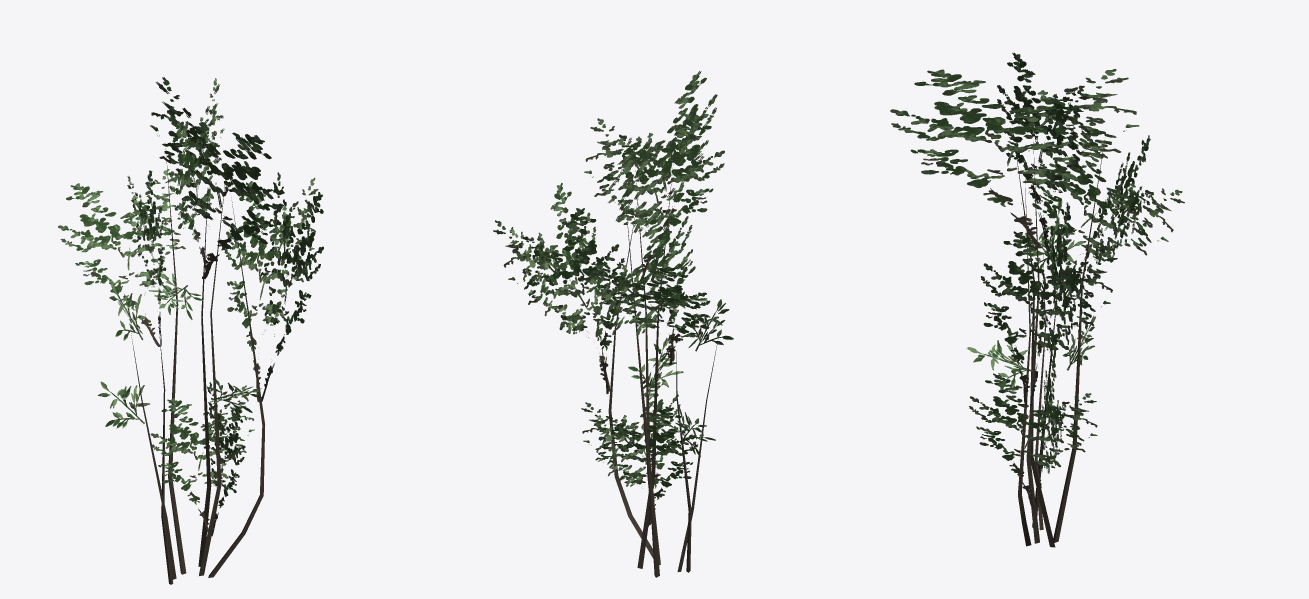
File: BgMD_Aodamo_0201.fbx
3 views of the same model, side by side, from view 1: azimuth 30°, elevation 25°; view 2: azimuth 150°, elevation 25°; view 3: azimuth 270°, elevation 25° (orthographic). The views are drawn at different scales.
Parts seen in each view (by area): view 1: pPlane31; view 2: pPlane31; view 3: pPlane31.
Part boxes in pixels (<box>): pPlane31: <box>58,77,323,584</box>; pPlane31: <box>493,71,733,577</box>; pPlane31: <box>890,52,1184,547</box>.
Size of the model in its own units: 124 by 161 by 140.
